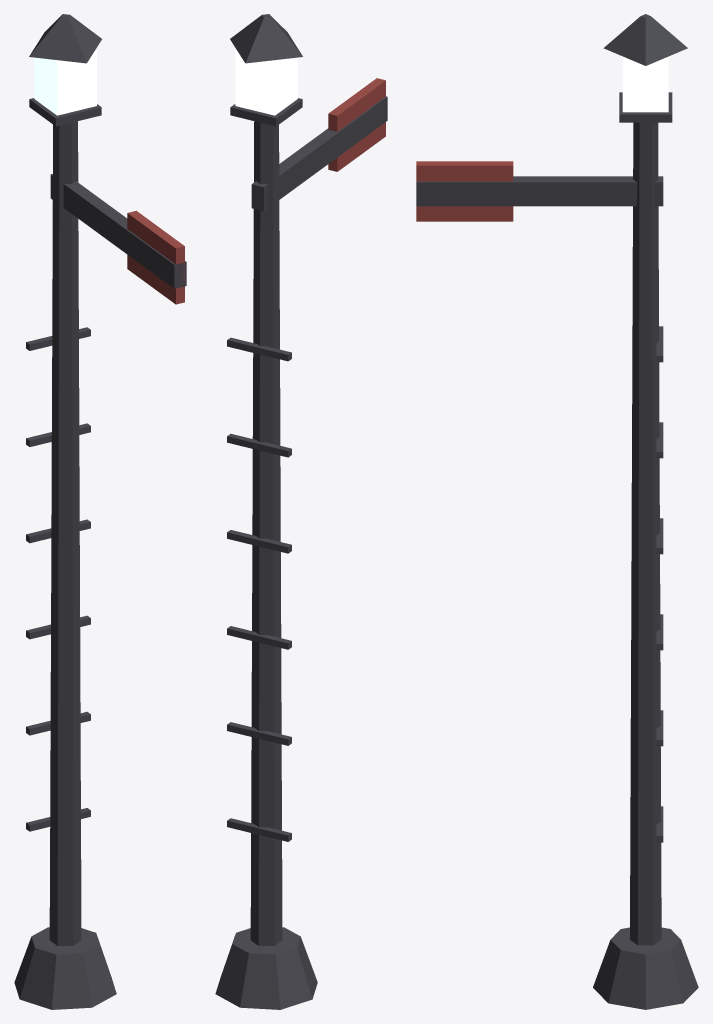
File: signal_lamp.glb
The picture shows the model from 3 angles, left to right: view 1: azimuth 30°, elevation 25°; view 2: azimuth 150°, elevation 25°; view 3: azimuth 270°, elevation 25°; orthographic projection.
Parts seen in each view (by area): view 1: signal_lamp; view 2: signal_lamp; view 3: signal_lamp.
Part boxes in pixels (x1=…): signal_lamp: x1=14, y1=14, x2=186, y2=1009; signal_lamp: x1=215, y1=14, x2=387, y2=1009; signal_lamp: x1=416, y1=14, x2=698, y2=1009.
Size of the model in its own units: 0.6 by 6.07 by 1.6.
